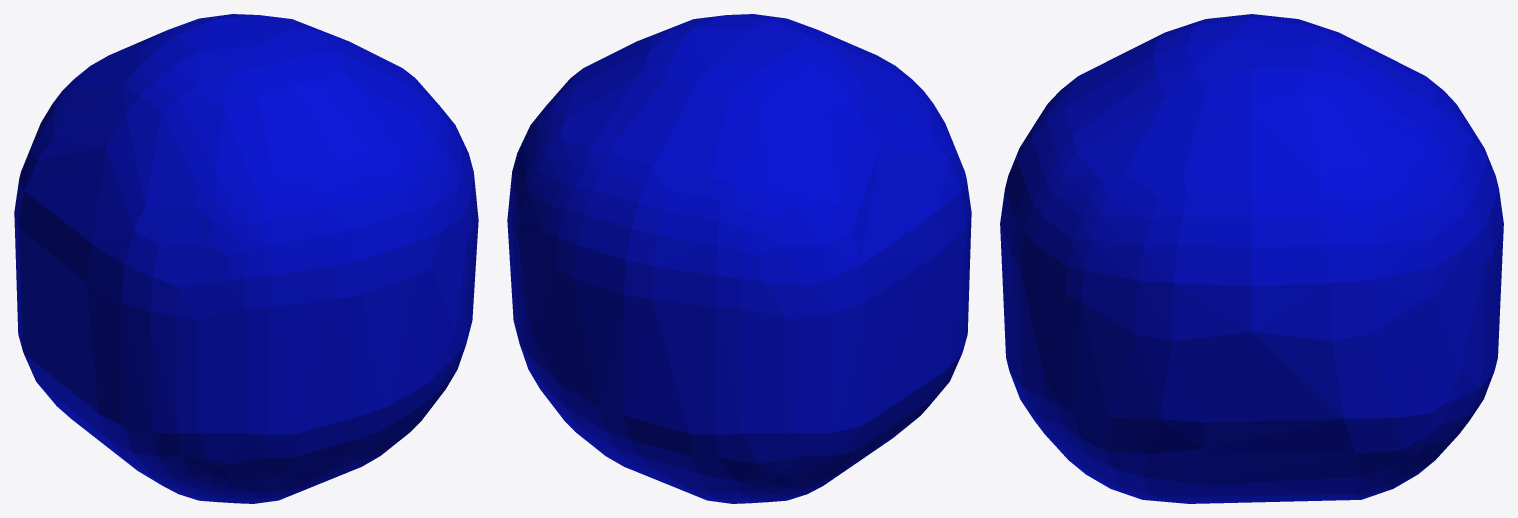
The model's file is COL_hollie_real_012_collision.dae.
3 views of the same model, side by side, from view 1: azimuth 30°, elevation 25°; view 2: azimuth 150°, elevation 25°; view 3: azimuth 270°, elevation 25° (orthographic). The views are drawn at different scales.
Visible parts, largest first — view 1: COL_hollie_real_012_collision; view 2: COL_hollie_real_012_collision; view 3: COL_hollie_real_012_collision.
Part boxes in pixels (x1=…): COL_hollie_real_012_collision: x1=14, y1=14, x2=478, y2=503; COL_hollie_real_012_collision: x1=507, y1=14, x2=971, y2=503; COL_hollie_real_012_collision: x1=1000, y1=14, x2=1503, y2=503.
Bounding box in the file's own units: 0.0595 × 0.063 × 0.0625.
